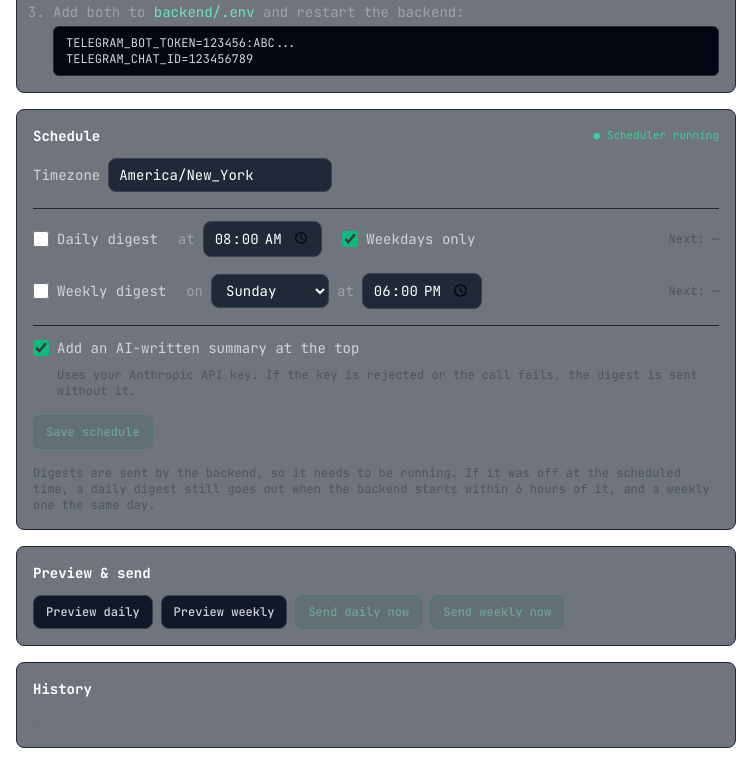
Test: DigestCenter › previews a digest without sending it
(page scrolled)
Click the button "Preview daily". click: click(93, 612)
box: [33,594,153,628]
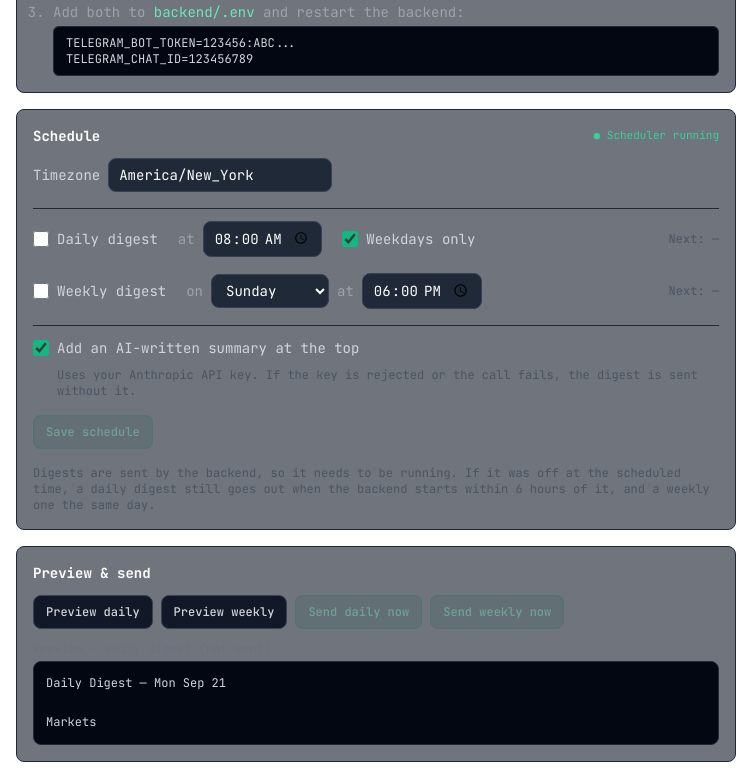
Expected: the text with test id "digest-output" shows "Daily Digest — Mon Sep 21", [46,674,226,730]
